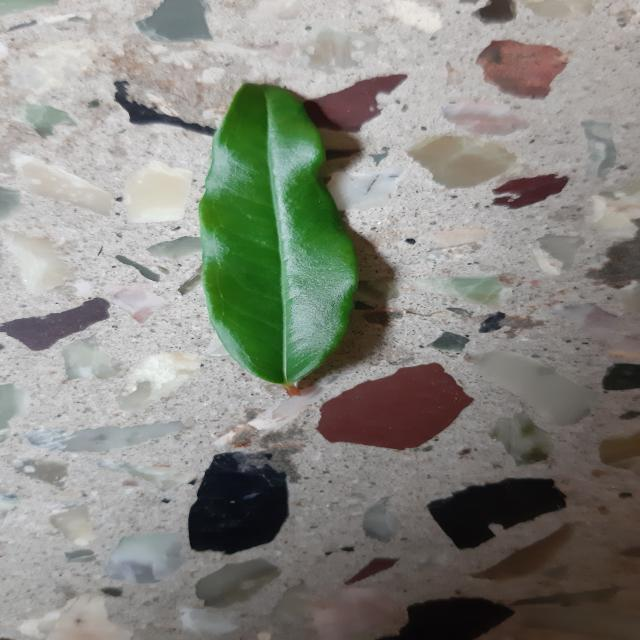pomgranate: (200, 84, 358, 386)
